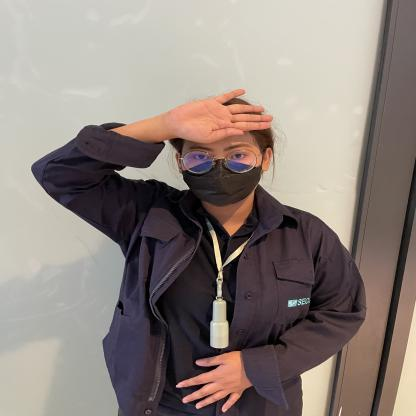Sick: (128, 76, 302, 145)
